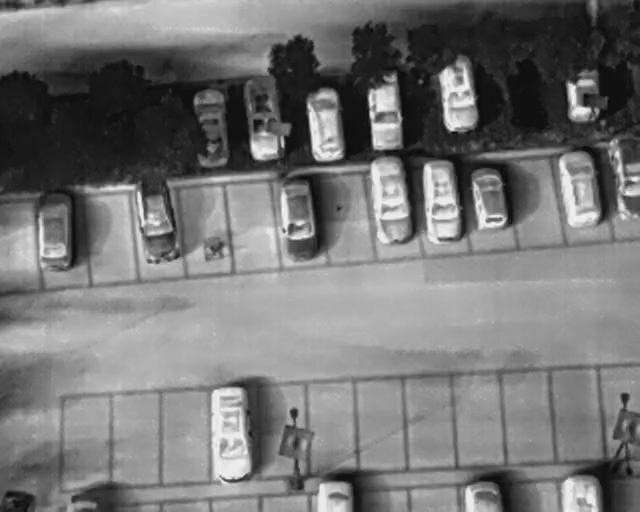Car: (128, 169, 181, 266), (238, 72, 291, 165), (366, 153, 415, 248), (210, 385, 256, 486), (272, 172, 322, 263), (432, 51, 484, 135), (555, 145, 604, 233), (301, 84, 349, 165), (191, 83, 234, 170), (364, 66, 406, 154), (424, 155, 463, 244), (36, 190, 72, 272), (466, 166, 510, 231), (611, 137, 640, 222), (564, 70, 600, 124), (559, 472, 601, 512), (314, 478, 356, 512), (462, 480, 505, 512)
